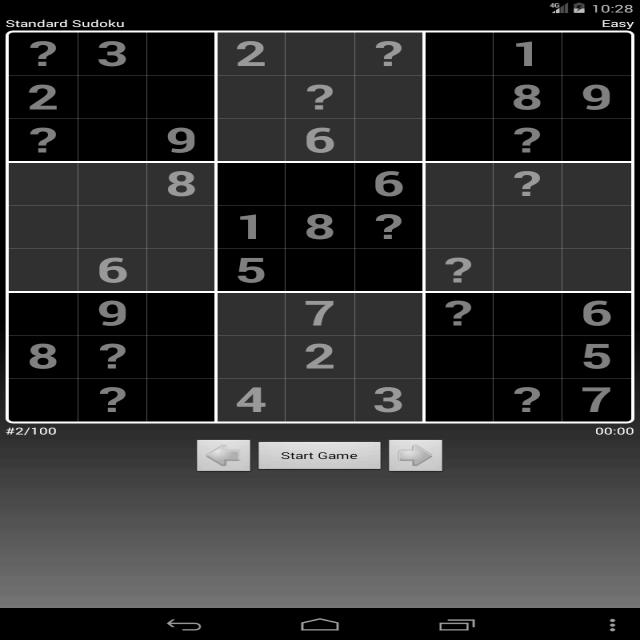Button: (250, 436, 389, 474)
ImageButton: (394, 436, 449, 474), (193, 436, 245, 474)
TextView: (14, 31, 632, 420)
